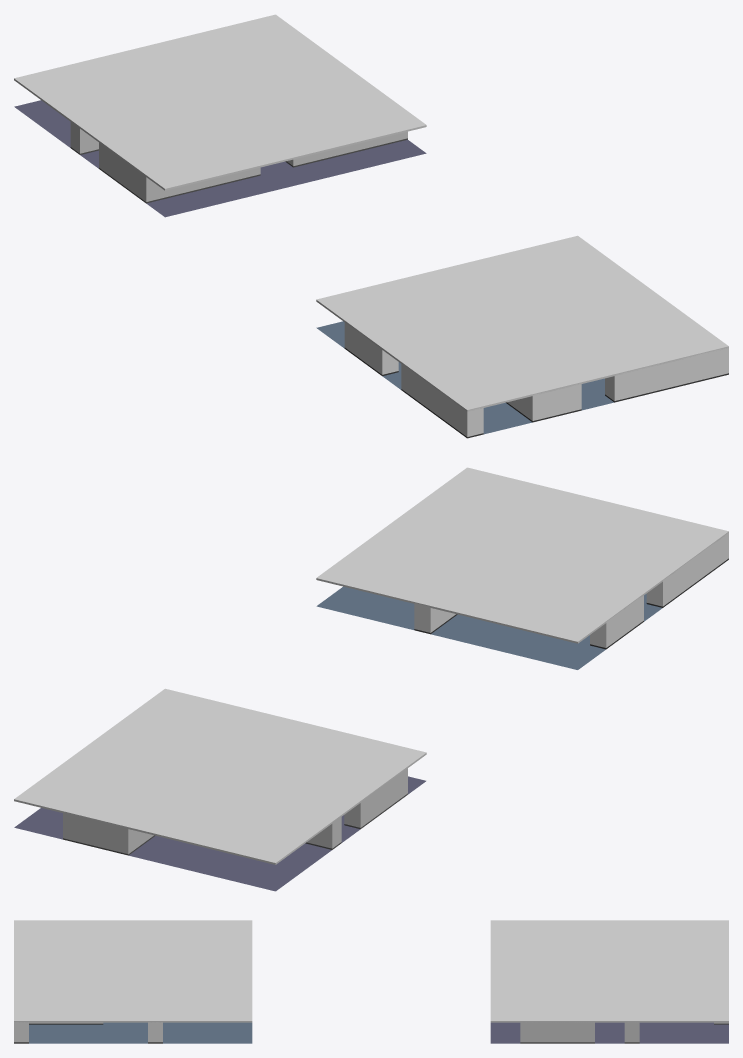
The picture shows the model from 3 angles, top to bottom: view 1: azimuth 30°, elevation 25°; view 2: azimuth 150°, elevation 25°; view 3: azimuth 270°, elevation 25°; orthographic projection. The views are drawn at different scales.
Visible parts, largest first — view 1: Cube, Cube.001, Plane.001, Plane; view 2: Cube, Cube.001, Plane.001, Plane; view 3: Cube.001, Cube, Plane, Plane.001.
Boxes of the visible parts, box(x1,y1,x2,y2) form: Cube: box(14, 14, 426, 190); Cube.001: box(316, 235, 728, 411); Plane.001: box(316, 321, 728, 438); Plane: box(14, 100, 426, 217); Cube: box(14, 688, 426, 864); Cube.001: box(316, 467, 728, 643); Plane.001: box(316, 532, 728, 669); Plane: box(14, 768, 425, 891); Cube.001: box(14, 920, 252, 1022); Cube: box(490, 920, 728, 1022); Plane: box(490, 1022, 728, 1043); Plane.001: box(14, 1022, 252, 1043).
Bounding box in the file's own units: 200 × 20.75 × 600.
